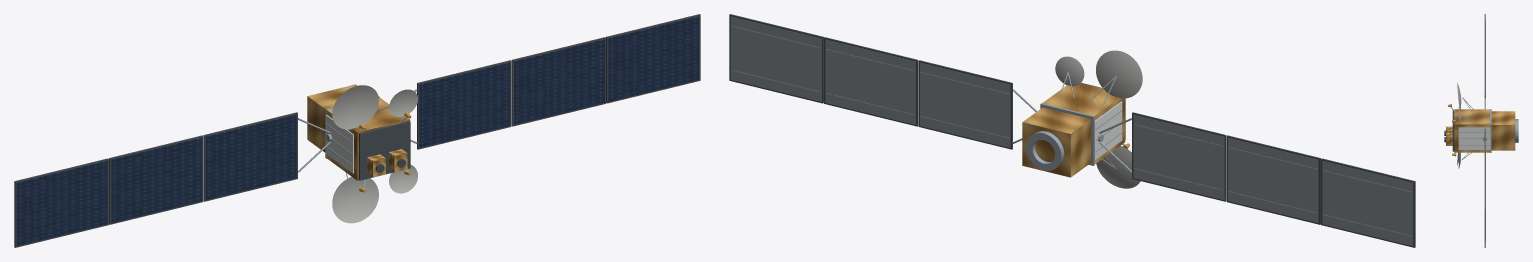
File: ref-spacebus-4000b2-33056.glb
The picture shows the model from 3 angles, left to right: view 1: azimuth 30°, elevation 25°; view 2: azimuth 150°, elevation 25°; view 3: azimuth 270°, elevation 25°; orthographic projection. The views are drawn at different scales.
Visible parts, largest first — view 1: Solar cell panel (×6), Solar panel frame (×6), Communications reflector (×4), Earth-facing deck, Service module, Payload module, Radiator face; view 2: Rear array substrate (×6), Solar panel frame (×6), Communications reflector (×3), Service module, Payload module, Radiator face, Launch adapter ring, Module interface; view 3: Service module, Payload module, Radiator face, Solar panel frame (×6), Earth-facing deck, Launch adapter ring, Communications feed assembly, Module interface, Communications reflector.
Part boxes in pixels (box(x1,y1,x2,y2)): Solar cell panel (×6): box(16, 16, 699, 246); Solar panel frame (×6): box(14, 14, 700, 247); Communications reflector (×4): box(332, 85, 417, 223); Earth-facing deck: box(358, 121, 410, 180); Service module: box(307, 84, 357, 152); Payload module: box(327, 97, 410, 180); Radiator face: box(325, 114, 353, 173); Rear array substrate (×6): box(730, 16, 1413, 246); Solar panel frame (×6): box(729, 14, 1415, 247); Communications reflector (×3): box(1055, 50, 1142, 188); Service module: box(1022, 107, 1090, 177); Payload module: box(1042, 83, 1125, 163); Radiator face: box(1094, 101, 1122, 160); Launch adapter ring: box(1026, 131, 1064, 170); Module interface: box(1040, 103, 1094, 165); Service module: box(1491, 111, 1515, 150); Payload module: box(1454, 109, 1489, 152); Radiator face: box(1458, 127, 1490, 149); Solar panel frame (×6): box(1484, 14, 1485, 247); Earth-facing deck: box(1452, 110, 1454, 151); Launch adapter ring: box(1515, 119, 1518, 142); Communications feed assembly: box(1446, 133, 1452, 145); Module interface: box(1490, 109, 1491, 152); Communications reflector: box(1457, 83, 1461, 110).
Bounding box in the file's own units: 29.96 × 5.71 × 4.8.
8 materials, 2 textured.
